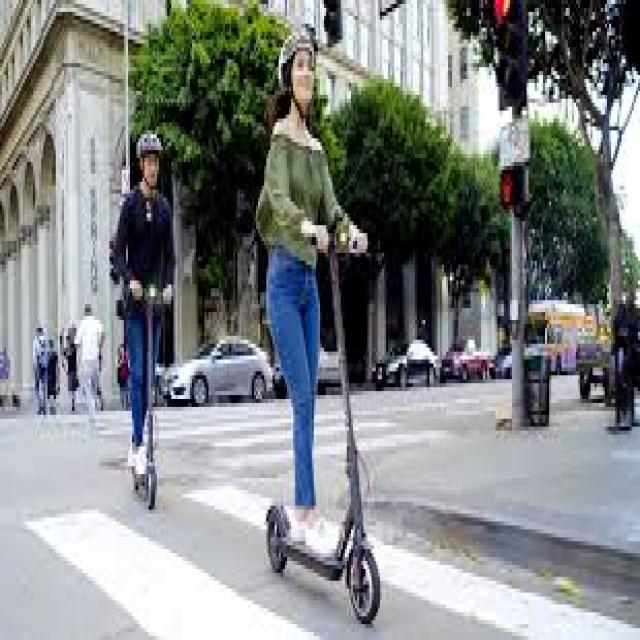helmet: (247, 21, 383, 634), (100, 121, 182, 520)
